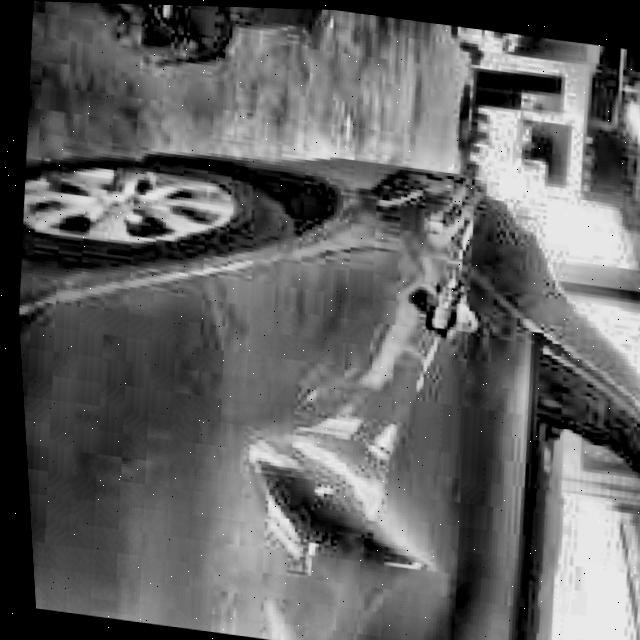door_dent: (235, 412, 446, 587)
